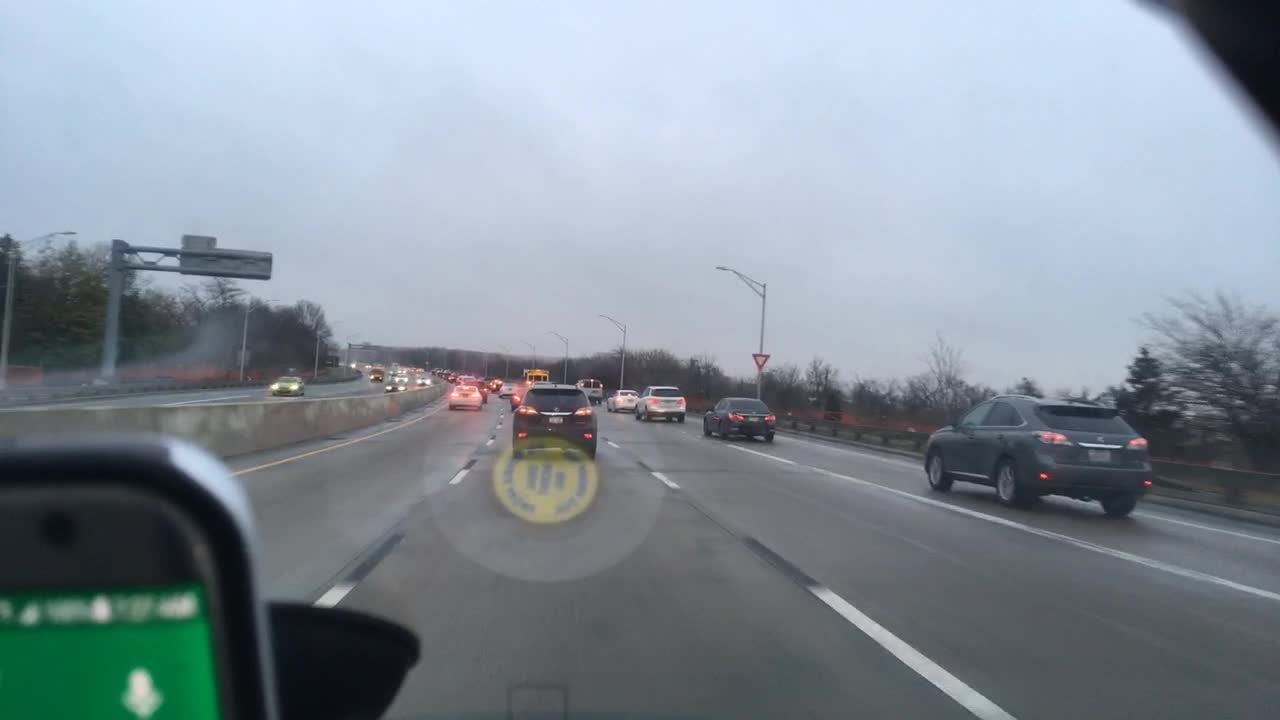bus: (575, 376, 603, 405), (521, 367, 549, 383)
car: (922, 393, 1153, 515), (511, 383, 597, 459), (703, 397, 778, 442), (634, 385, 687, 421), (448, 383, 484, 409), (606, 389, 640, 412), (271, 375, 306, 395), (510, 382, 530, 409), (384, 380, 407, 393), (498, 382, 517, 397), (481, 375, 502, 387), (586, 389, 602, 404), (369, 368, 385, 382), (475, 380, 487, 398), (455, 375, 475, 385), (416, 375, 429, 386), (447, 371, 459, 382), (396, 372, 407, 380), (438, 368, 450, 375)
traffic sign: (180, 231, 270, 278), (752, 353, 769, 368), (234, 351, 247, 364)
